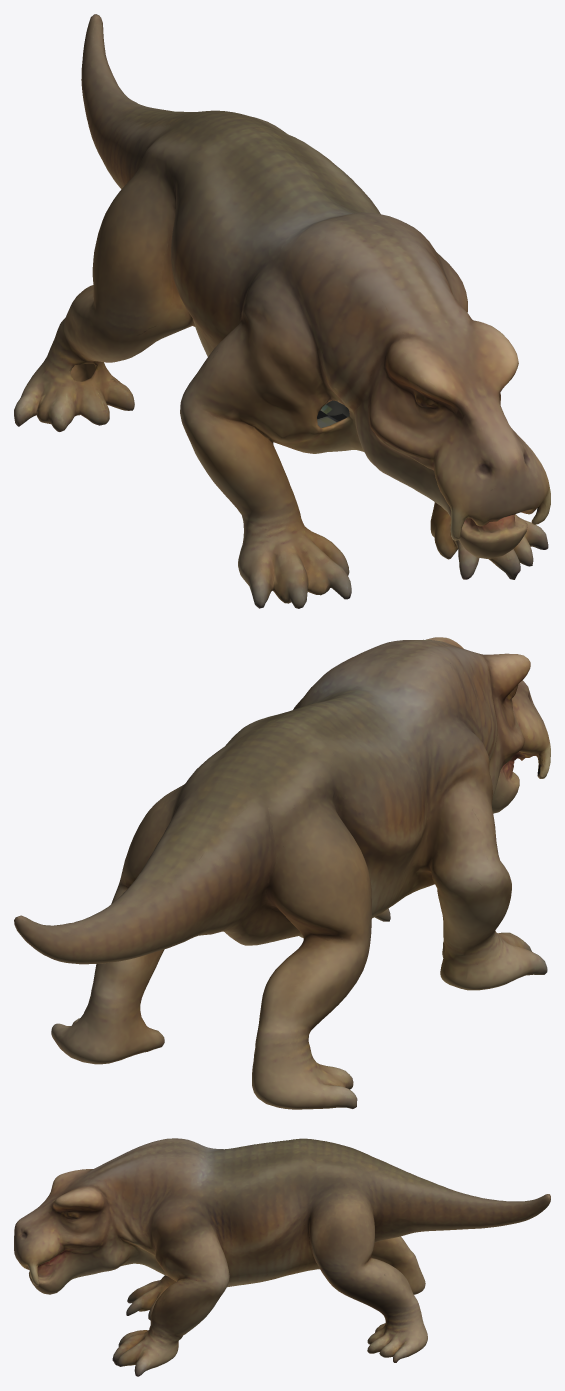
3 renders of one model, top to bottom at view 1: azimuth 30°, elevation 25°; view 2: azimuth 150°, elevation 25°; view 3: azimuth 270°, elevation 25°, orthographic. The views are drawn at different scales.
Parts seen in each view (by area): view 1: world; view 2: world; view 3: world.
Boxes of the visible parts, bbox=[...] form: world: bbox=[14, 14, 550, 608]; world: bbox=[14, 637, 550, 1109]; world: bbox=[14, 1138, 550, 1376].
Bounding box in the file's own units: 1.94 × 2.02 × 5.
1 material, 1 textured.
